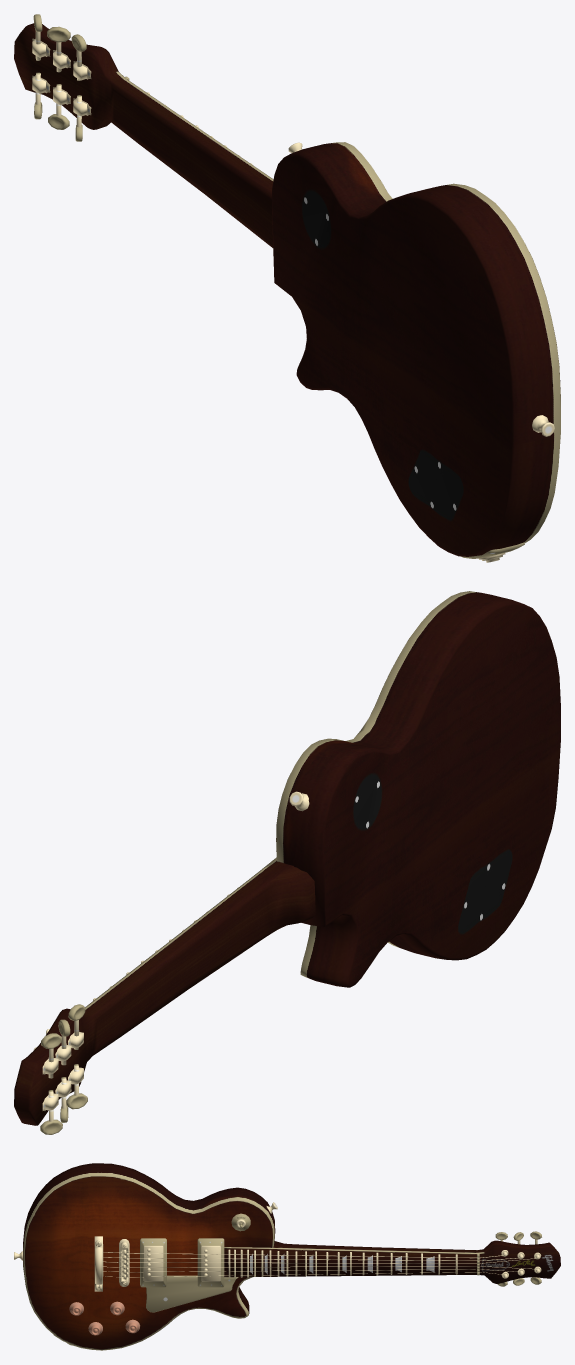
Rendered from guitar_gibson_les_paul_standard.glb.
3 renders of one model, top to bottom at view 1: azimuth 30°, elevation 25°; view 2: azimuth 150°, elevation 25°; view 3: azimuth 270°, elevation 25°, orthographic. The views are drawn at different scales.
Visible parts, largest first — view 1: Gitarre higher test15_01 - Default_0, Gitarre higher test12, Gitarre higher test11_01 - Default_0, Gitarre higher test02; view 2: Gitarre higher test15_01 - Default_0, Gitarre higher test12, Gitarre higher test11_01 - Default_0, Gitarre higher test02; view 3: Gitarre higher test15_01 - Default_0, Gitarre higher test12, Gitarre higher test04_01 - Default_0, Gitarre higher test22, Gitarre higher test16, Gitarre higher test05_01 - Default_0, Gitarre higher test25_01 - Default_0, Gitarre higher test07, Gitarre higher test03_01 - Default_0, Gitarre higher test11_01 - Default_0, Gitarre higher test24_01 - Default_0, Gitarre higher test06.
Part boxes in pixels (x1,y1,x2,y2): Gitarre higher test15_01 - Default_0: [272, 142, 560, 556]; Gitarre higher test12: [14, 23, 273, 247]; Gitarre higher test11_01 - Default_0: [33, 14, 86, 141]; Gitarre higher test02: [32, 38, 91, 116]; Gitarre higher test15_01 - Default_0: [276, 591, 560, 987]; Gitarre higher test12: [14, 857, 315, 1125]; Gitarre higher test11_01 - Default_0: [40, 1004, 87, 1134]; Gitarre higher test02: [42, 1031, 83, 1110]; Gitarre higher test15_01 - Default_0: [23, 1163, 275, 1350]; Gitarre higher test12: [224, 1240, 560, 1283]; Gitarre higher test04_01 - Default_0: [140, 1238, 224, 1287]; Gitarre higher test22: [103, 1252, 536, 1277]; Gitarre higher test16: [146, 1275, 238, 1312]; Gitarre higher test05_01 - Default_0: [228, 1249, 457, 1277]; Gitarre higher test25_01 - Default_0: [250, 1254, 434, 1274]; Gitarre higher test07: [69, 1301, 140, 1335]; Gitarre higher test03_01 - Default_0: [94, 1236, 103, 1291]; Gitarre higher test11_01 - Default_0: [495, 1231, 541, 1286]; Gitarre higher test24_01 - Default_0: [119, 1239, 129, 1286]; Gitarre higher test06: [231, 1213, 250, 1231].
Size of the model in its own units: 0.6811 by 3.35 by 9.36.
1 material, 1 textured.
